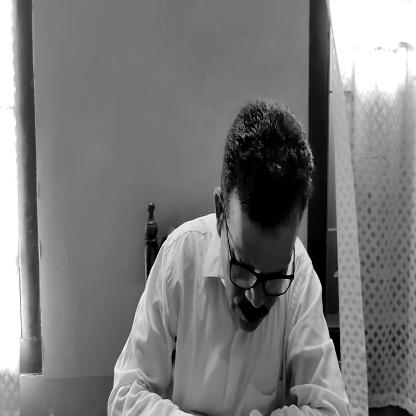Normal: (215, 106, 310, 328)
